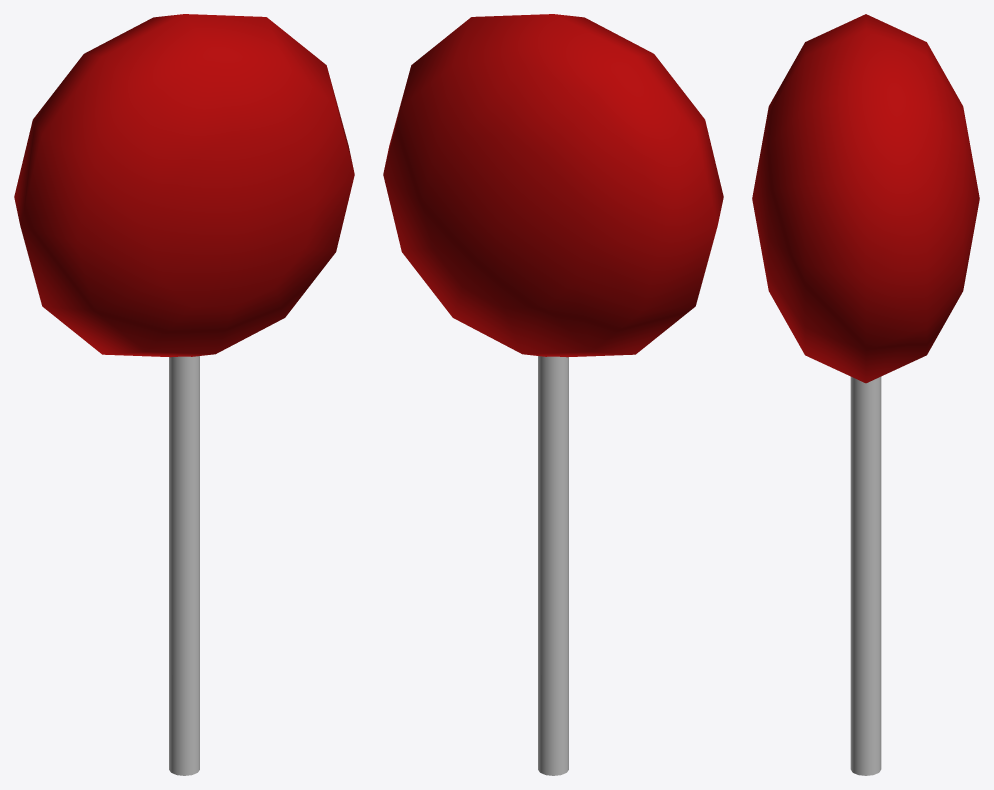
File: 3D_LollyPop_Circle_red.FBX
3 views of the same model, side by side, from view 1: azimuth 30°, elevation 25°; view 2: azimuth 150°, elevation 25°; view 3: azimuth 270°, elevation 25° (orthographic). The views are drawn at different scales.
Visible parts, largest first — view 1: 3D_LollyPop_Circle_Red; view 2: 3D_LollyPop_Circle_Red; view 3: 3D_LollyPop_Circle_Red.
Boxes of the visible parts, x1,y1,x2,y2 form: 3D_LollyPop_Circle_Red: (14, 14, 354, 775); 3D_LollyPop_Circle_Red: (383, 14, 723, 775); 3D_LollyPop_Circle_Red: (752, 14, 979, 775).
Size of the model in its own units: 29.66 by 65.19 by 18.21.
